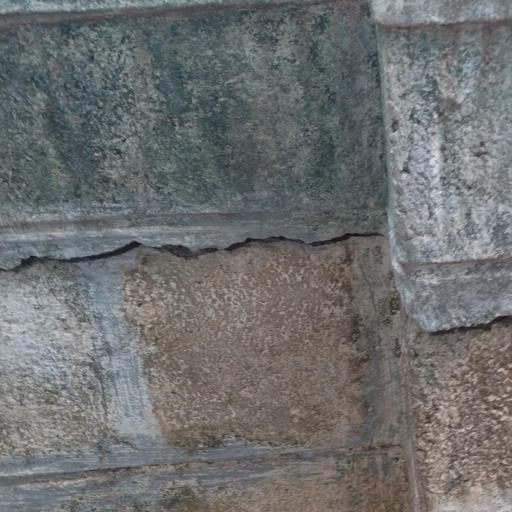minor_crack: (0, 197, 434, 277)
